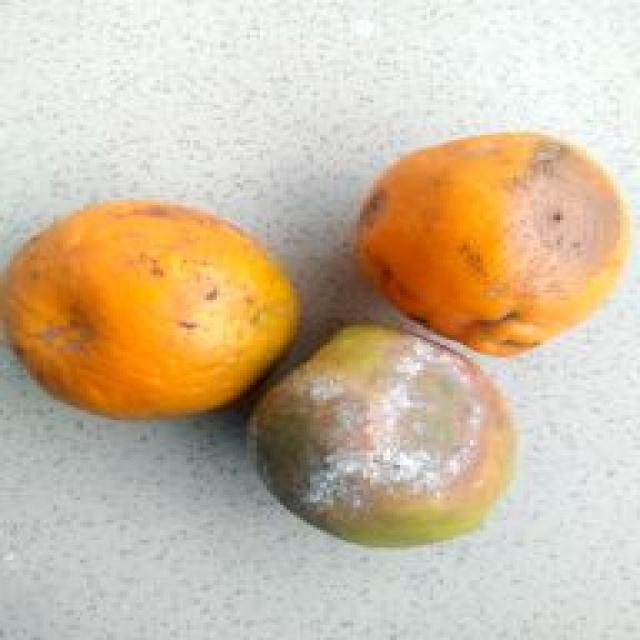Bad_Orange: (358, 132, 630, 356), (250, 325, 513, 544)
